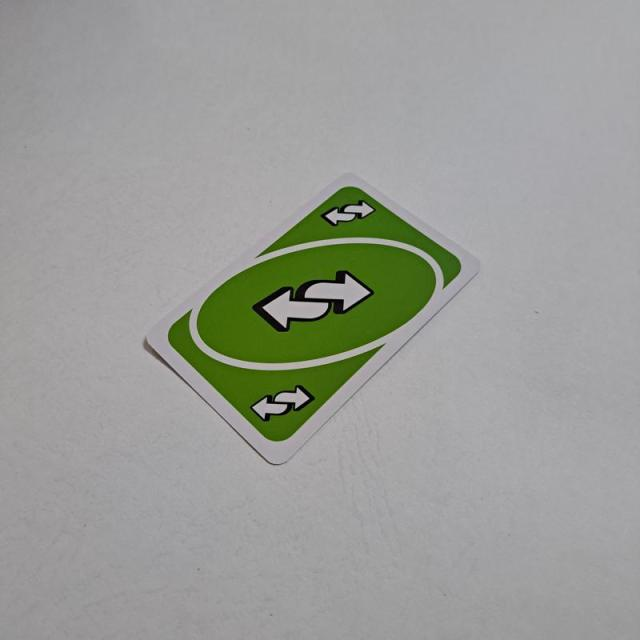Green_Card: (164, 180, 465, 445)
Reverse: (319, 195, 378, 232)
